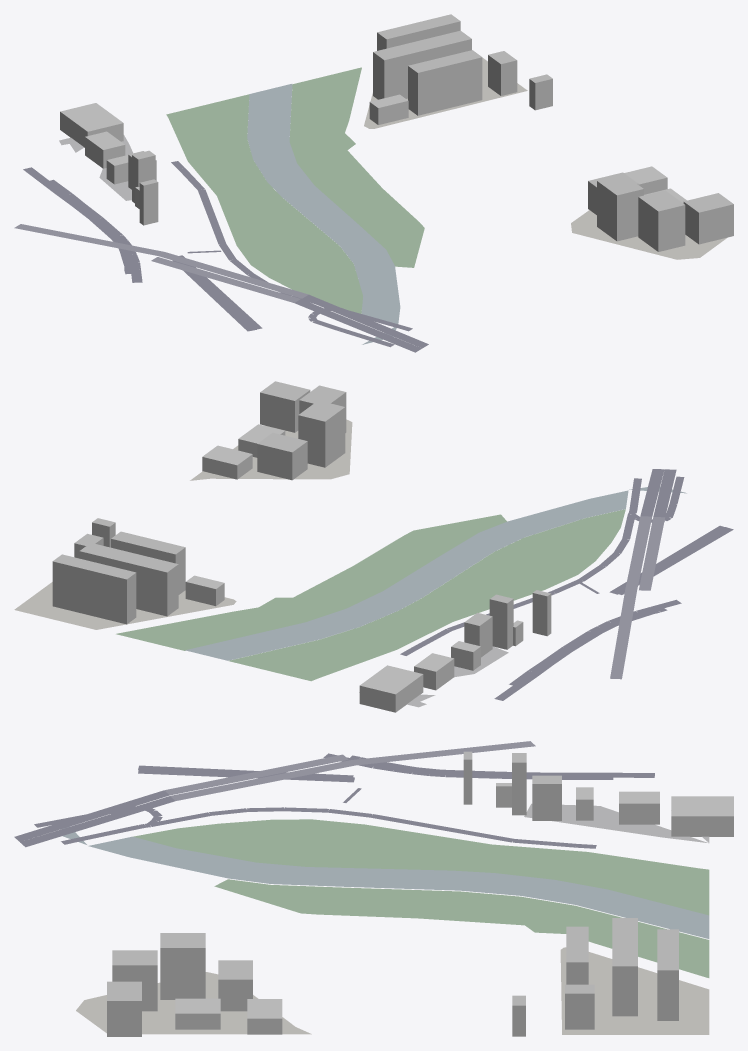
The model's file is 103_108_mid.glb.
3 renders of one model, top to bottom at view 1: azimuth 30°, elevation 25°; view 2: azimuth 150°, elevation 25°; view 3: azimuth 270°, elevation 25°, orthographic. The views are drawn at different scales.
Size of the model in its own units: 539 by 46.54 by 556.
